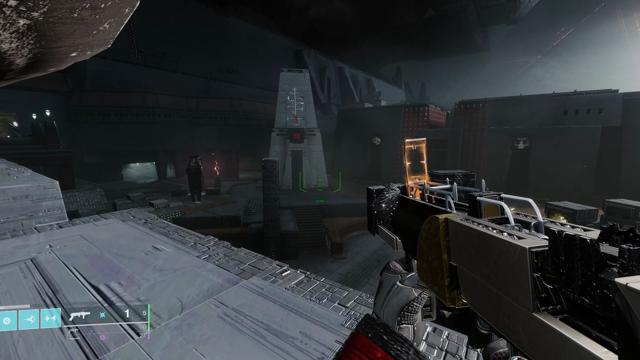brain: (371, 135, 382, 146)
drink: (513, 135, 531, 150)
stop: (290, 130, 302, 142)
